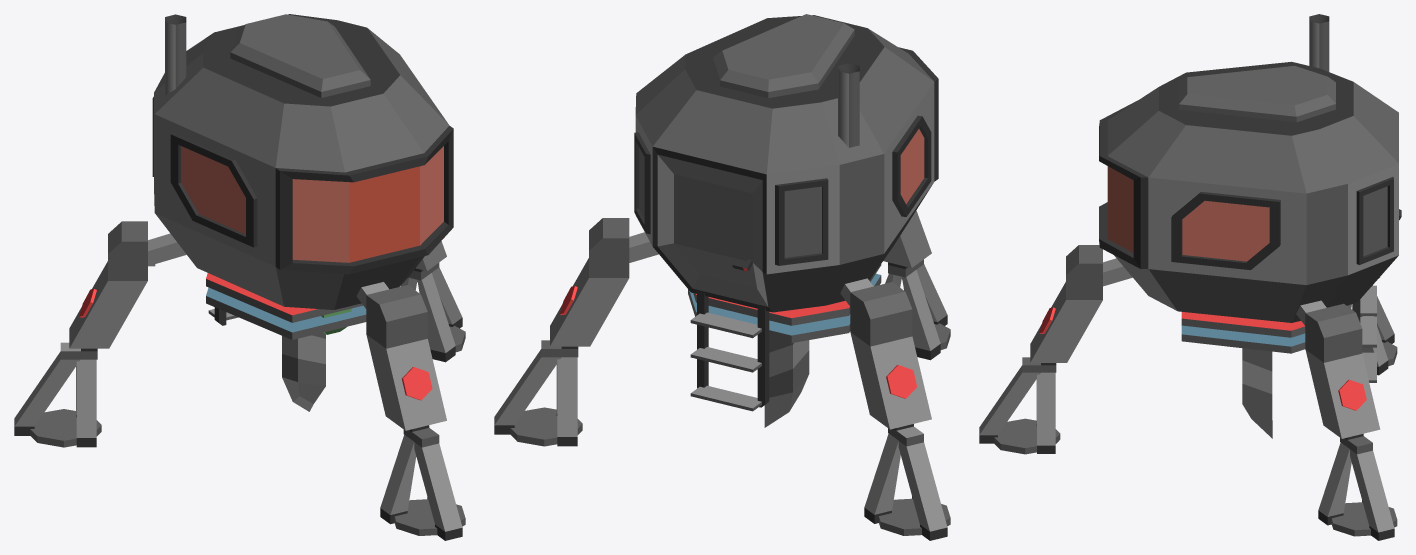
The model's file is Mining_Drill.fbx.
3 views of the same model, side by side, from view 1: azimuth 30°, elevation 25°; view 2: azimuth 150°, elevation 25°; view 3: azimuth 270°, elevation 25° (orthographic). The views are drawn at different scales.
Parts seen in each view (by area): view 1: Mining_Drill; view 2: Mining_Drill; view 3: Mining_Drill.
Boxes of the visible parts, x1,y1,x2,y2 form: Mining_Drill: (14,14,465,540); Mining_Drill: (494,14,950,540); Mining_Drill: (979,14,1401,540).
Size of the model in its own units: 388 by 337 by 341.
